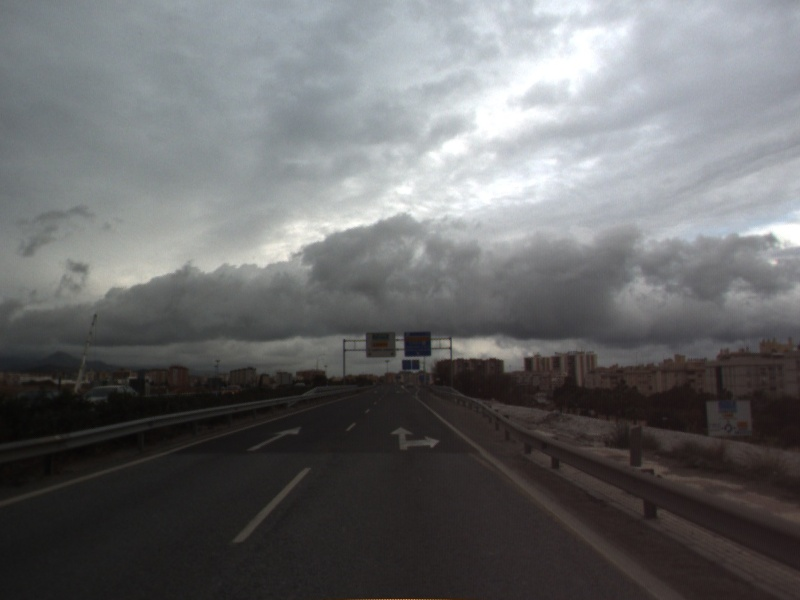STRAIGHT: (244, 424, 304, 453)
STRAIGHT_RIGHT: (388, 424, 443, 452)
